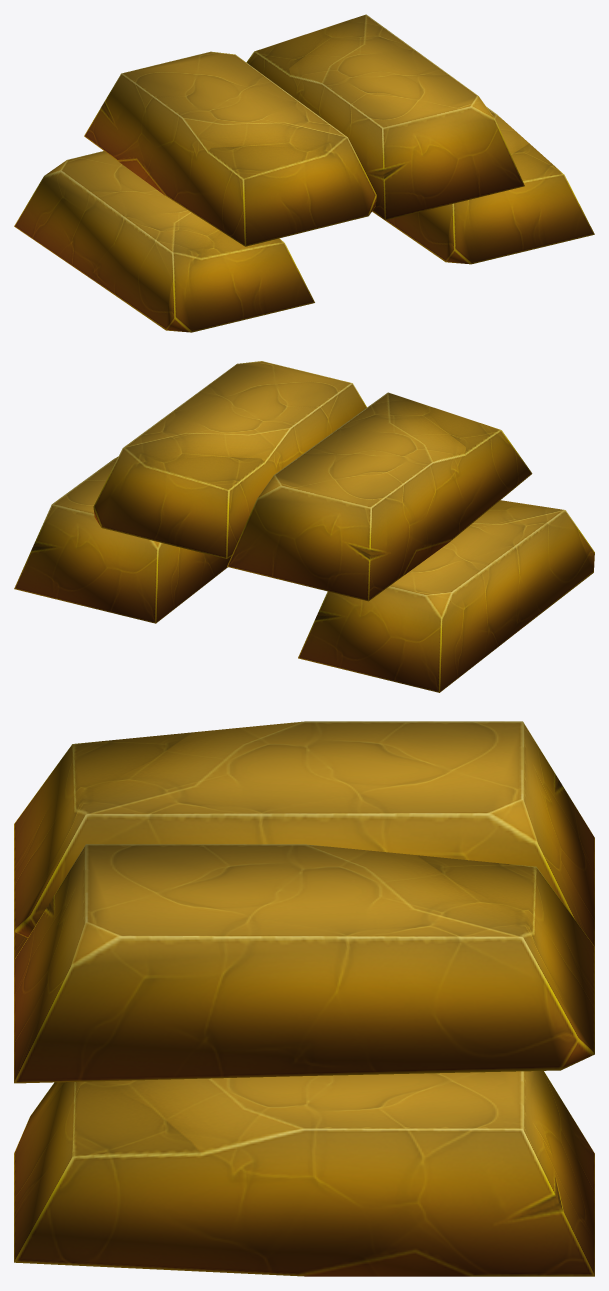
File: Gold-11.fbx
The picture shows the model from 3 angles, top to bottom: view 1: azimuth 30°, elevation 25°; view 2: azimuth 150°, elevation 25°; view 3: azimuth 270°, elevation 25°; orthographic projection. The views are drawn at different scales.
Parts seen in each view (by area): view 1: Gold-11; view 2: Gold-11; view 3: Gold-11.
Part boxes in pixels (x1,y1,x2,y2): Gold-11: (14,14,594,332); Gold-11: (14,361,594,692); Gold-11: (14,721,594,1276).
Size of the model in its own units: 0.225 by 0.075 by 0.15.
Materials: 1 (1 with a texture image).
